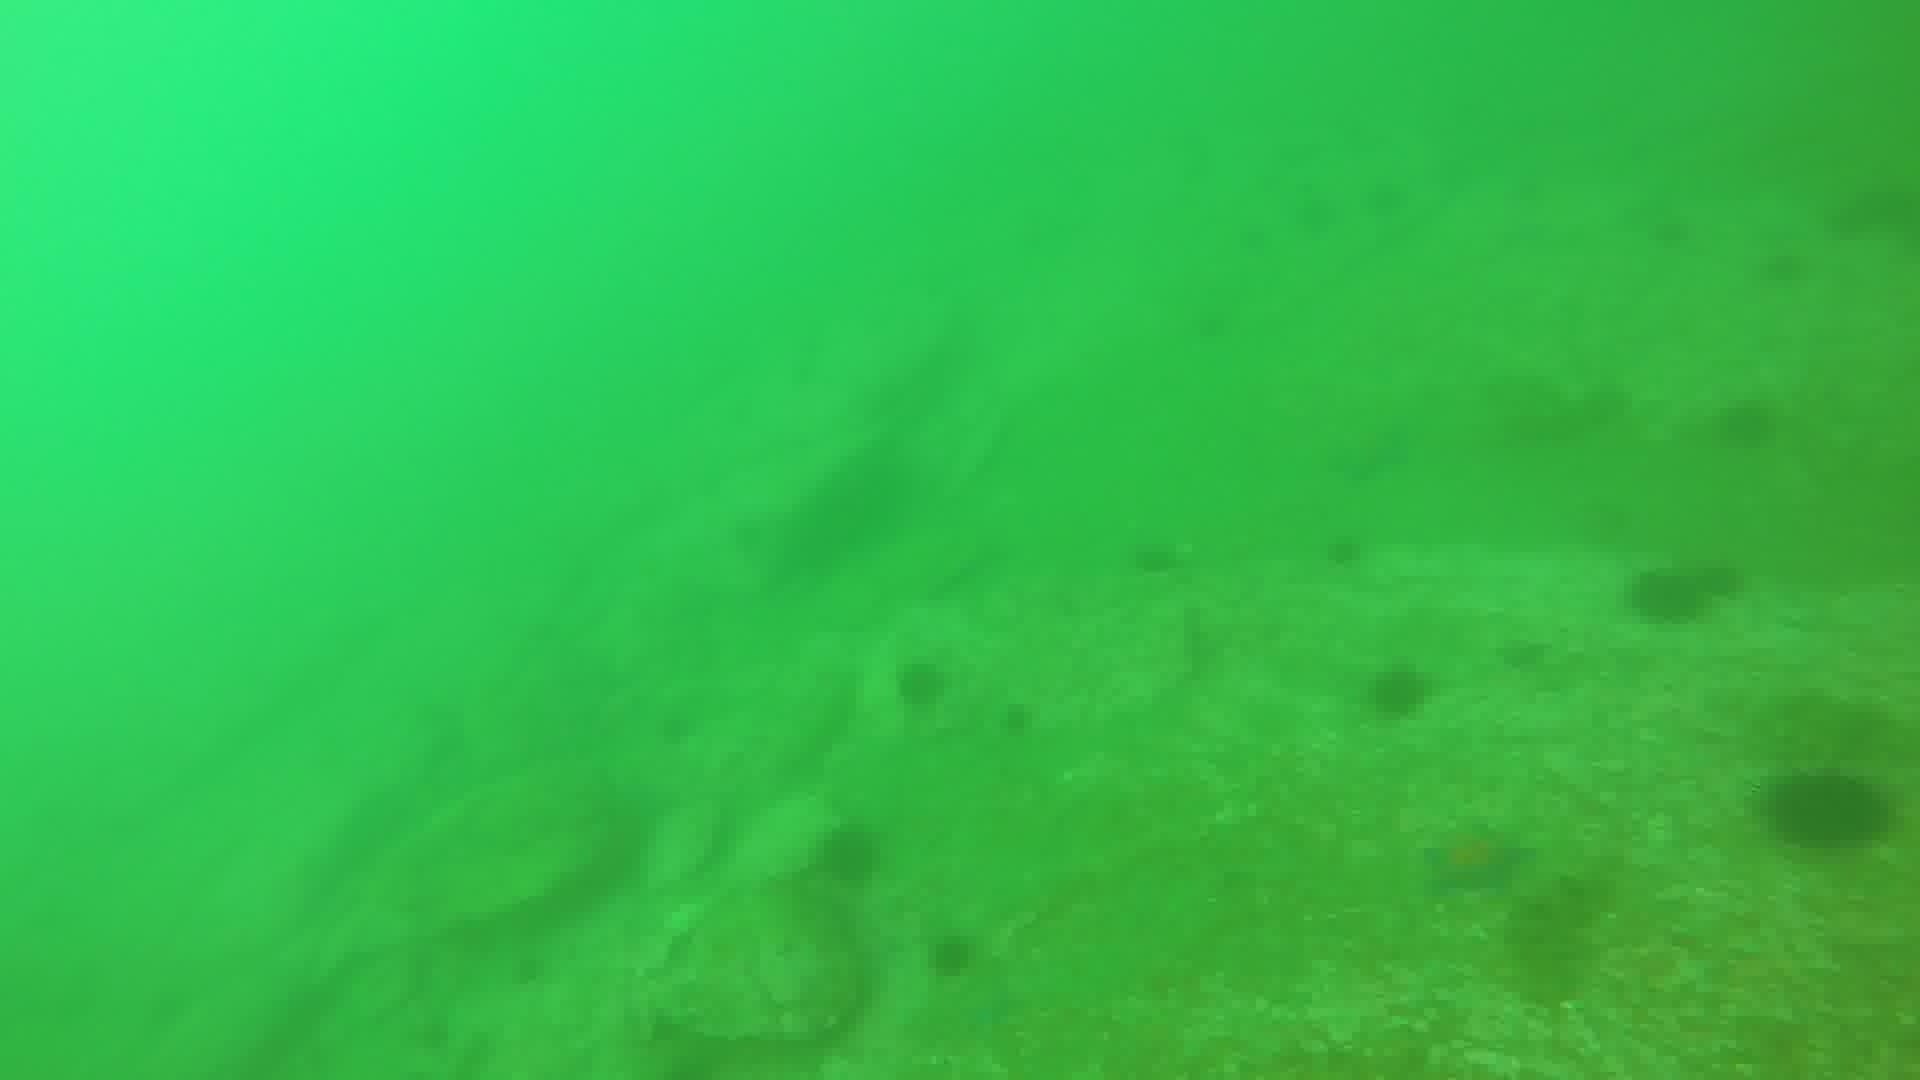echinus: (1759, 765, 1894, 857), (1824, 171, 1917, 248), (1623, 560, 1716, 629), (810, 818, 887, 891), (1361, 659, 1437, 724), (1712, 392, 1783, 455), (889, 654, 953, 715), (1683, 555, 1750, 613), (922, 928, 981, 982), (1124, 531, 1187, 580), (1753, 243, 1815, 291), (1319, 527, 1369, 572), (996, 698, 1039, 741)
holothurian: (1502, 858, 1611, 1011)
starfish: (1418, 818, 1534, 899), (1320, 409, 1418, 485)
